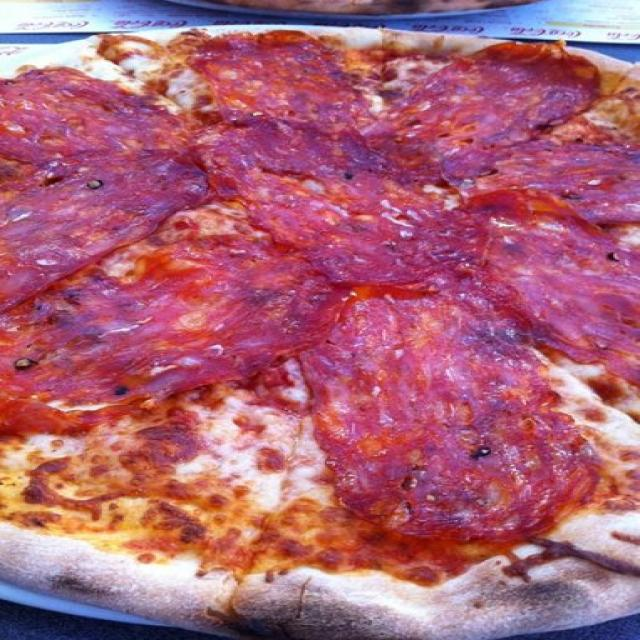Cheese: (49, 402, 318, 550)
Ham: (313, 274, 594, 545), (12, 236, 328, 434), (194, 114, 491, 284), (0, 66, 198, 285), (430, 193, 640, 341), (390, 34, 578, 154)
Pizza: (0, 28, 640, 640)
